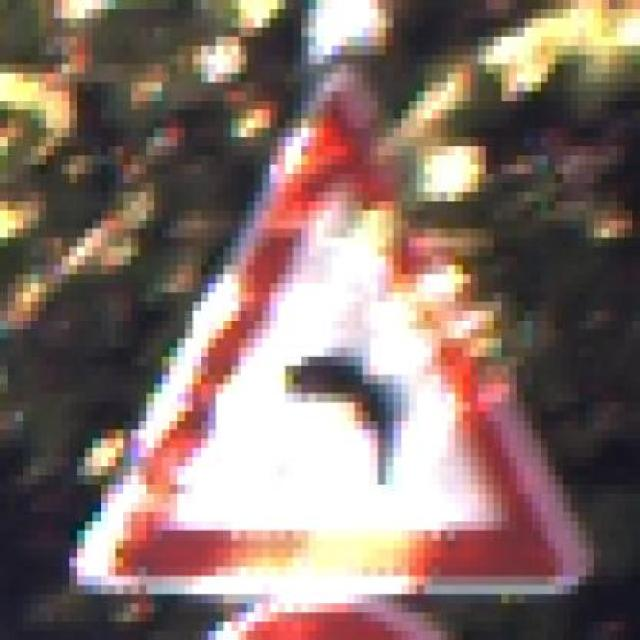Dangerous Left Curve Ahead: (54, 46, 601, 594)
